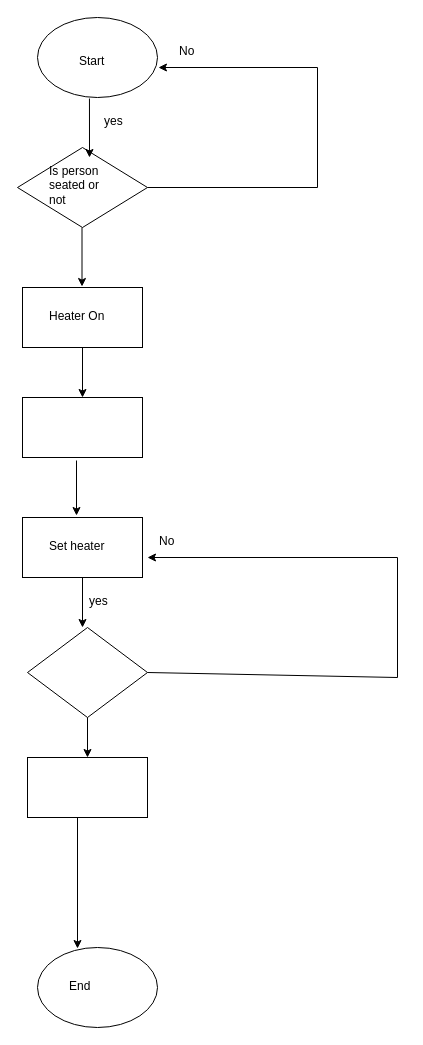
Some shapes in this 423 by 1045 pixel diagram are drawn without their labels. The shapes that lost their labels are listed below. From the top down, each one's box as (x1, y1, x2, y2) in pixels, then its label:
(22, 396, 142, 458): Temperature request
(26, 626, 148, 718): Set the heater to particular temperature
(26, 756, 148, 818): LCD display
